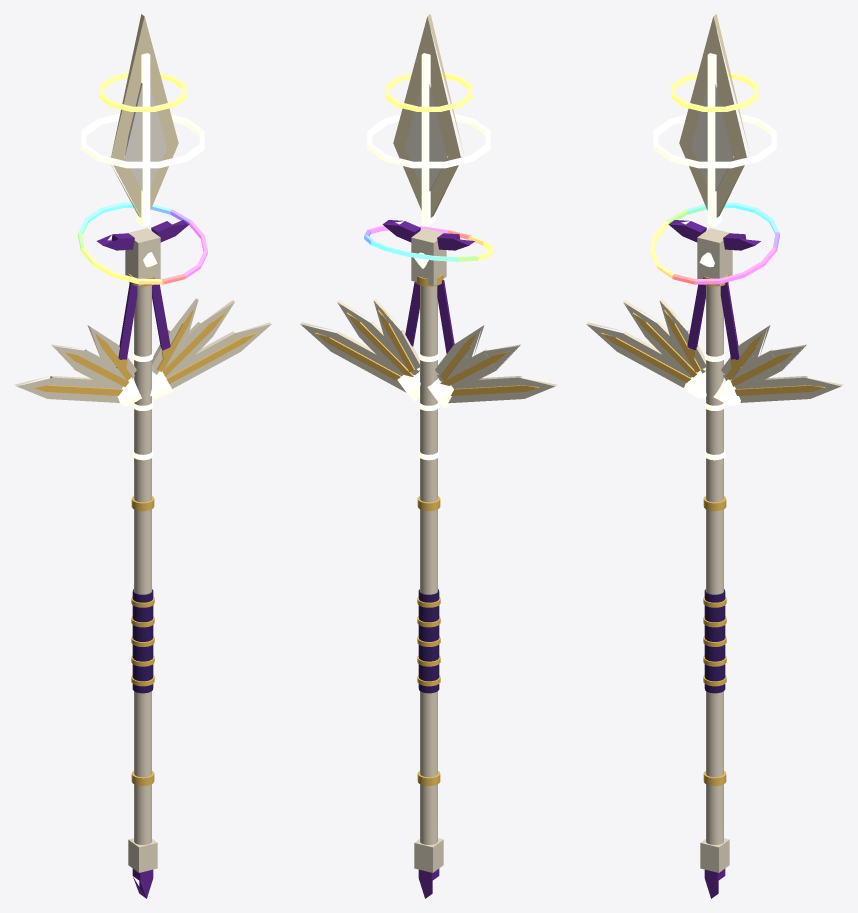
The picture shows the model from 3 angles, left to right: view 1: azimuth 30°, elevation 25°; view 2: azimuth 150°, elevation 25°; view 3: azimuth 330°, elevation 25°; orthographic projection.
Visible parts, largest first — view 1: the-unbroken; view 2: the-unbroken; view 3: the-unbroken.
Part boxes in pixels (box(x1,y1,x2,y2)): the-unbroken: box(14, 14, 271, 898); the-unbroken: box(300, 14, 557, 898); the-unbroken: box(586, 14, 843, 898).
Size of the model in its own units: 0.732 by 2.41 by 0.3127.
